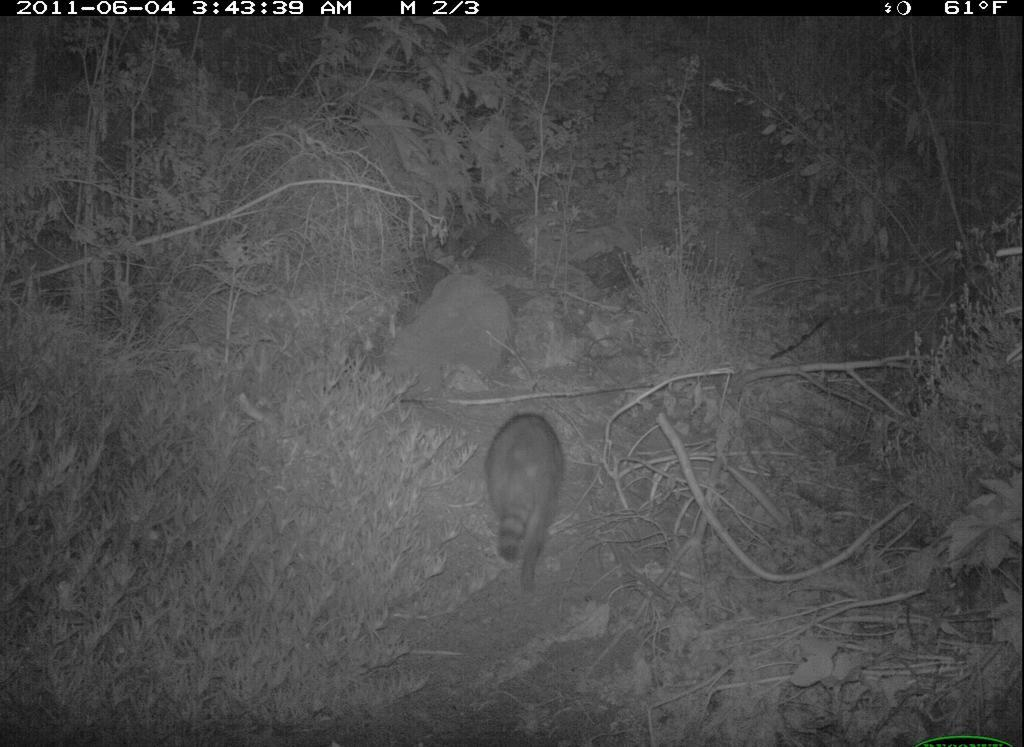raccoon: (469, 404, 578, 605)
